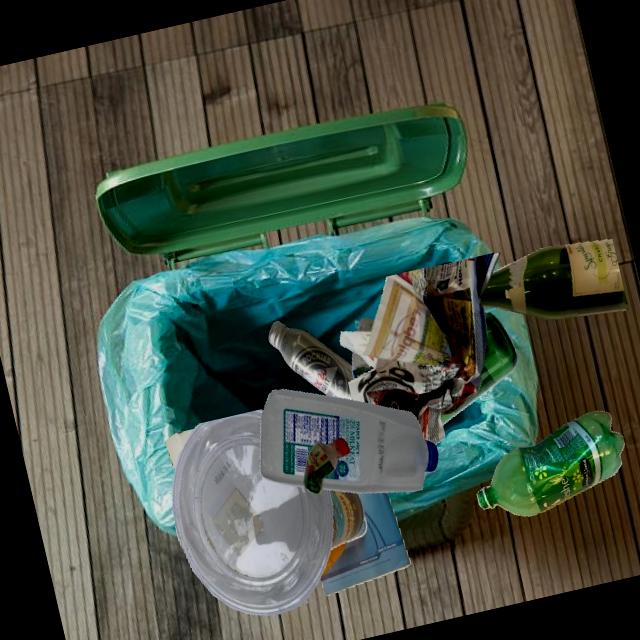biowaste: (320, 541, 347, 577)
cardboard: (165, 428, 193, 469)
glass: (480, 238, 627, 319), (441, 312, 518, 425), (329, 489, 363, 549)
metal: (268, 320, 353, 400)
paper: (339, 252, 500, 444), (320, 492, 410, 595)
plastic: (171, 409, 333, 615), (260, 389, 438, 493), (476, 410, 624, 516), (302, 437, 349, 494), (351, 351, 373, 379), (357, 317, 373, 331)
